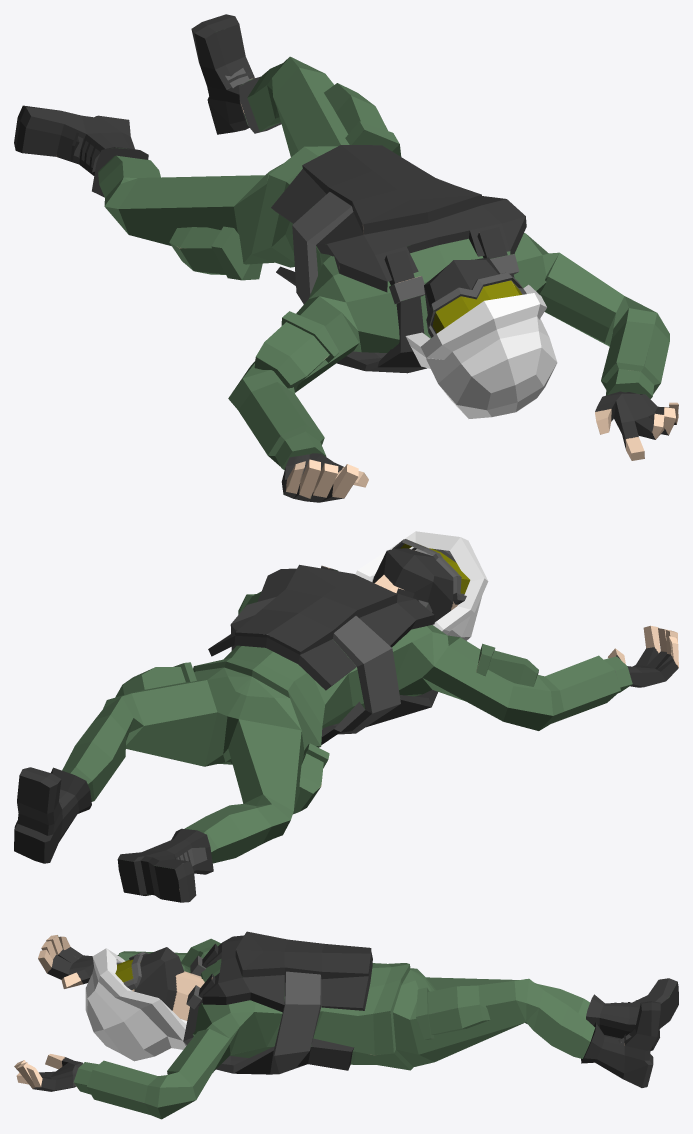
The model's file is Corpse.glb.
The picture shows the model from 3 angles, top to bottom: view 1: azimuth 30°, elevation 25°; view 2: azimuth 150°, elevation 25°; view 3: azimuth 270°, elevation 25°; orthographic projection. The views are drawn at different scales.
Parts seen in each view (by area): view 1: Soldat; view 2: Soldat; view 3: Soldat.
Part boxes in pixels (box(x1,y1,x2,y2)): Soldat: box(14, 14, 678, 502); Soldat: box(14, 531, 678, 902); Soldat: box(14, 931, 678, 1119).
Bounding box in the file's own units: 1.21 × 0.4121 × 2.17.
1 material, 1 textured.
